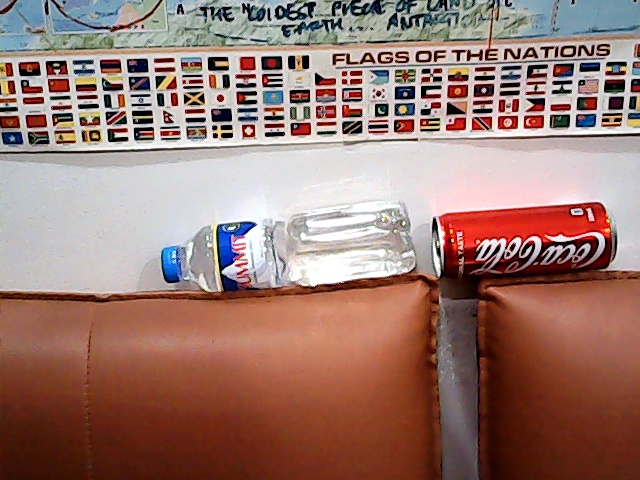Cola: (425, 200, 623, 293)
Summit Water: (153, 200, 419, 293)
